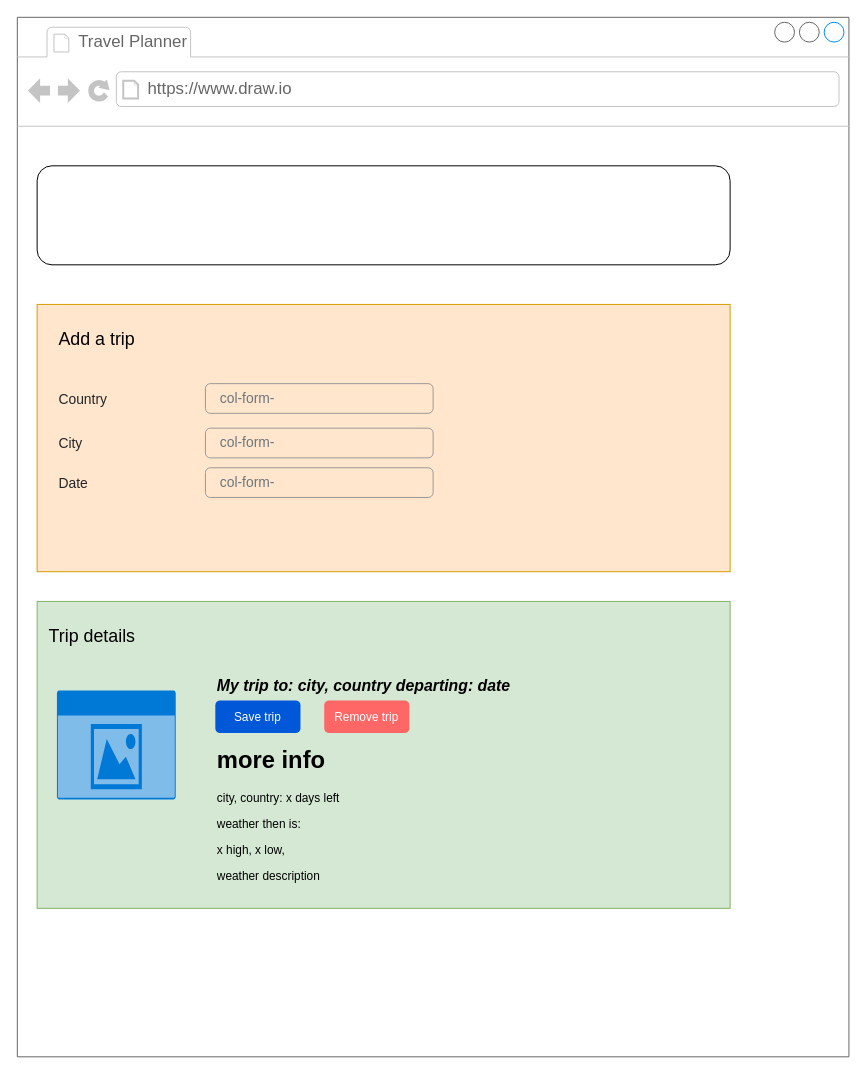
The diagram is 866 pixels wide and 1074 high, and some of its shapes have lost their labels. The centre of each missing label's shape, as x and y in pixels:
Photo: pixel 115 744
Teavel Planner: pixel 383 215
